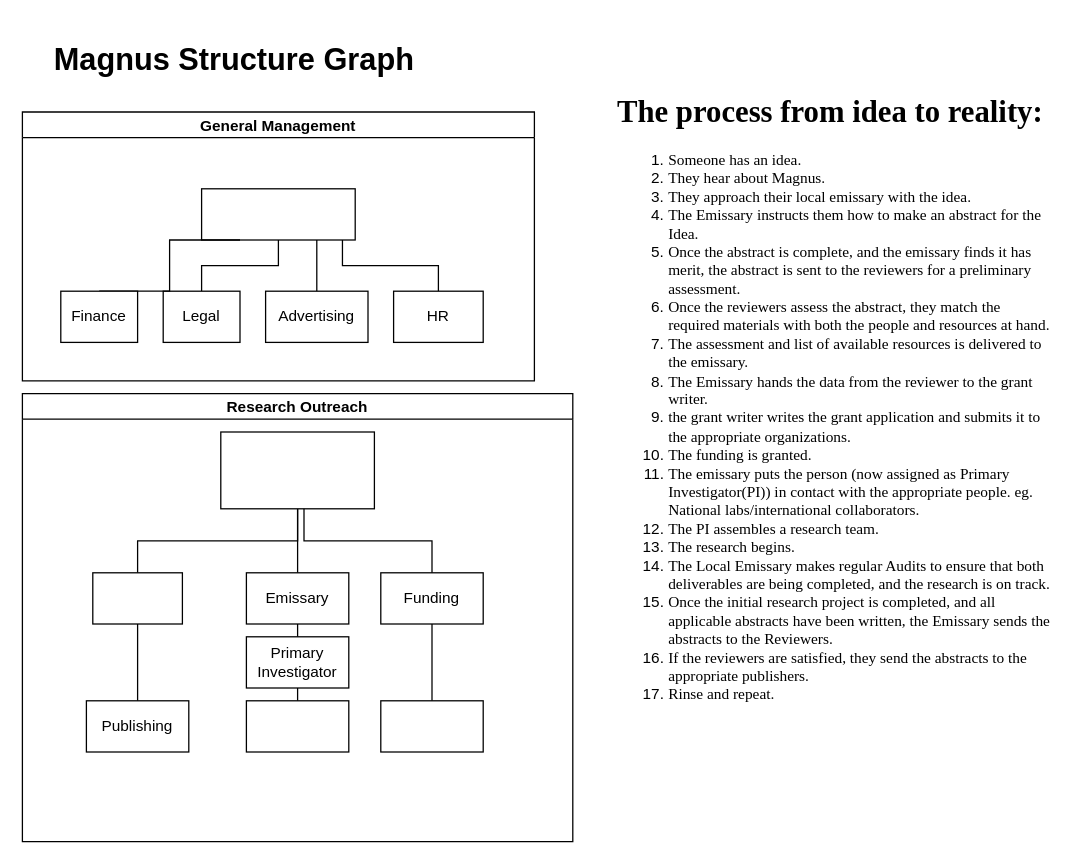
Image size: 1082x864. Some labels were removed from this diagram. The shapes that lost their labels are listed below. From the top down, each one's centre as x and y in pixels, then its label:
At [277,214]: "Parent".
At [297,470]: "Research Board".
At [137,598]: "Reviewers".
At [297,726]: "Research Team".
At [431,726]: "Grant Application writer".
